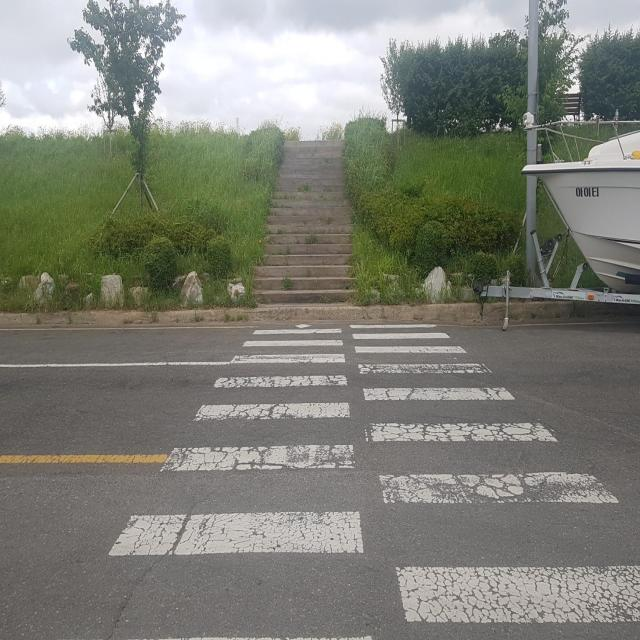횡단보도: (107, 319, 640, 626)
